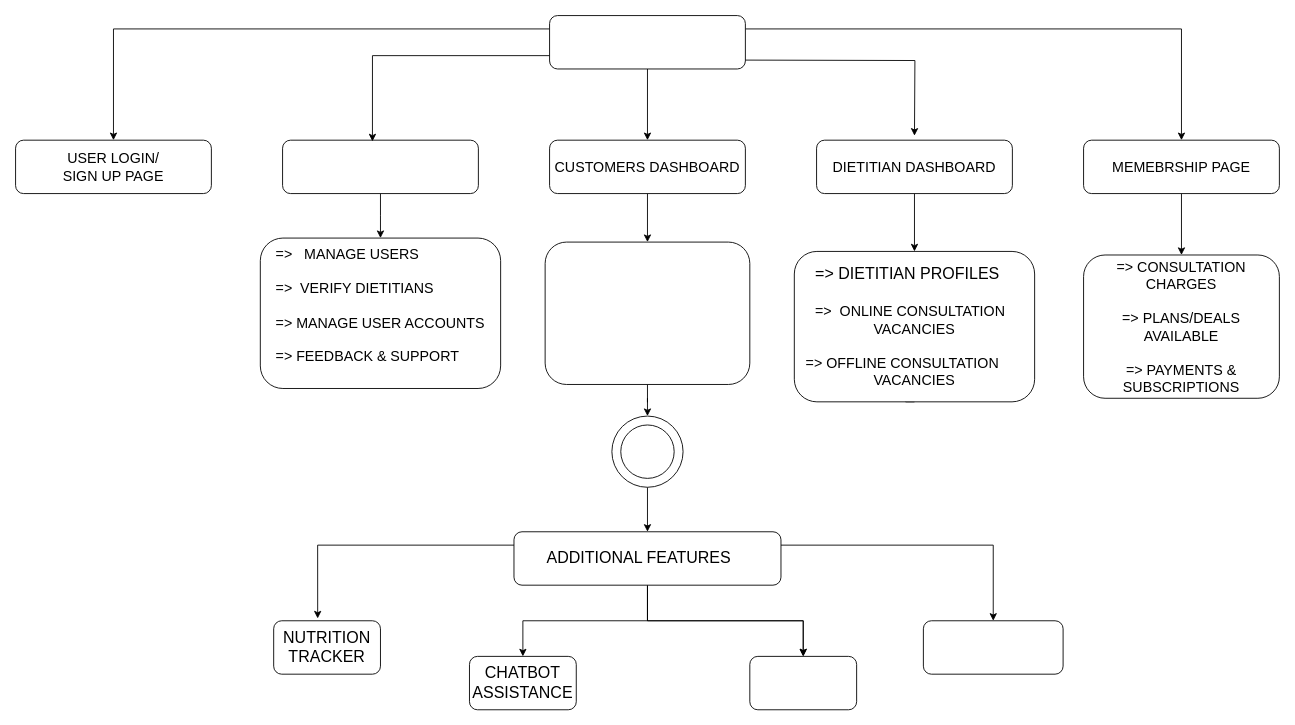
Some shapes in this 1295 by 725 pixel diagram are drawn without their labels. The box of each missing label's shape, as (x1, y1, x2, y2) in pixels:
=>PROFILE MANAGEMENT => QUICK HEALTH STATS => RESERVE DEITITIAN APPOINTMNETS: (544, 241, 750, 384)
ADMINS DASHBOARD: (282, 139, 478, 194)
BLOG: (749, 655, 857, 710)
MAIN WEBSITE (NUTRI CONNECT): (549, 15, 745, 69)
PERSONALIZED MEAL PLANS: (922, 620, 1063, 674)
